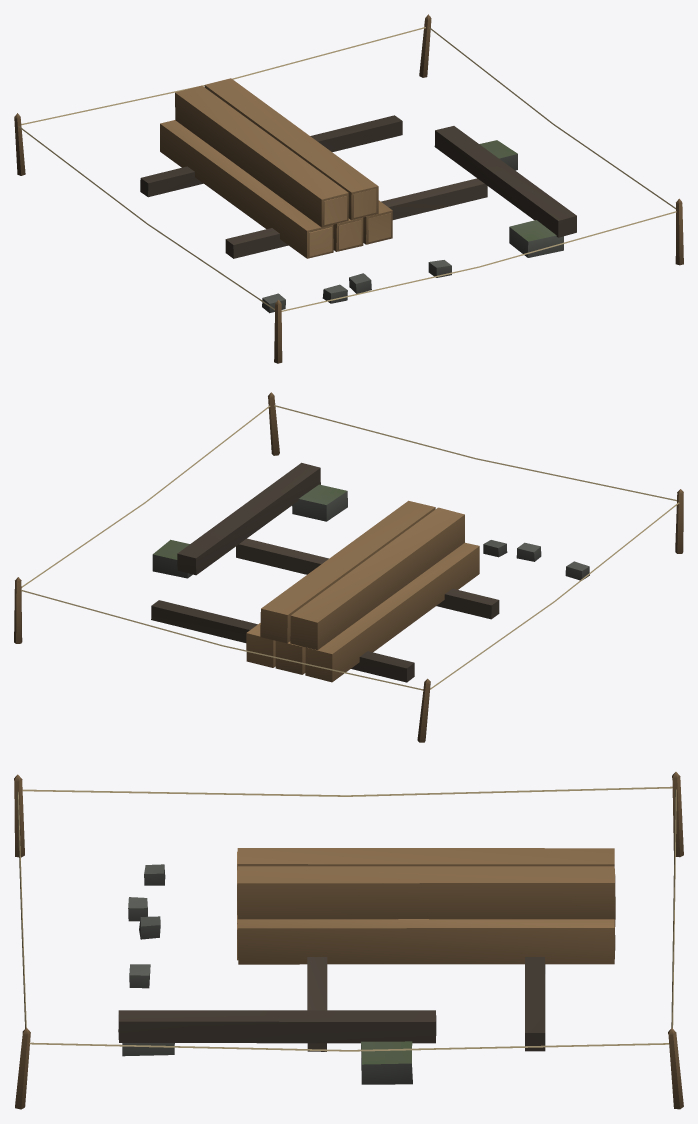
Rendered from ph_bld_shed_site.glb.
3 renders of one model, top to bottom at view 1: azimuth 30°, elevation 25°; view 2: azimuth 150°, elevation 25°; view 3: azimuth 270°, elevation 25°, orthographic. The views are drawn at different scales.
Visible parts, largest first — view 1: ph_bld_shed_site; view 2: ph_bld_shed_site; view 3: ph_bld_shed_site.
Boxes of the visible parts, x1,y1,x2,y2 form: ph_bld_shed_site: (14, 14, 683, 363); ph_bld_shed_site: (14, 392, 683, 742); ph_bld_shed_site: (14, 772, 683, 1109).
Size of the model in its own units: 3.1 by 0.4951 by 3.38.
